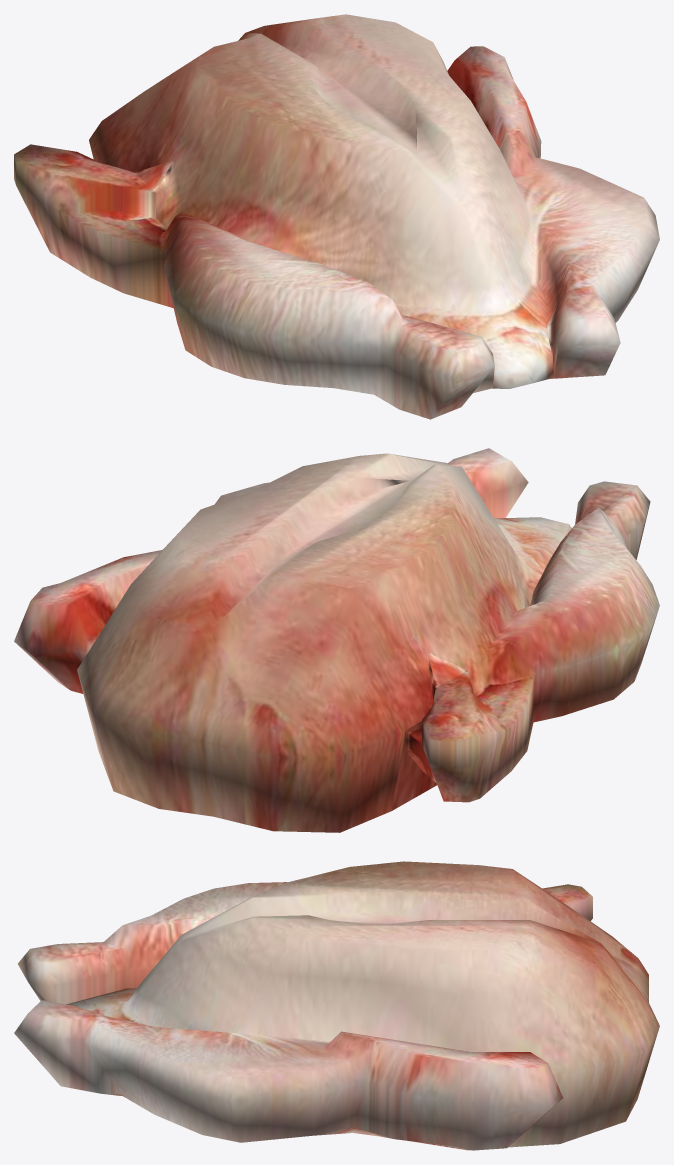
Rendered from chicken.dae.
The picture shows the model from 3 angles, top to bottom: view 1: azimuth 30°, elevation 25°; view 2: azimuth 150°, elevation 25°; view 3: azimuth 270°, elevation 25°; orthographic projection. The views are drawn at different scales.
Visible parts, largest first — view 1: Component_85 (×4); view 2: Component_85 (×4); view 3: Component_85 (×2).
Part boxes in pixels (x1,y1,x2,y2): Component_85 (×4): [14, 14, 659, 419]; Component_85 (×4): [14, 448, 659, 832]; Component_85 (×2): [14, 861, 659, 1150].
Bounding box in the file's own units: 8.98 × 12 × 3.6.
Materials: 1 (1 with a texture image).
